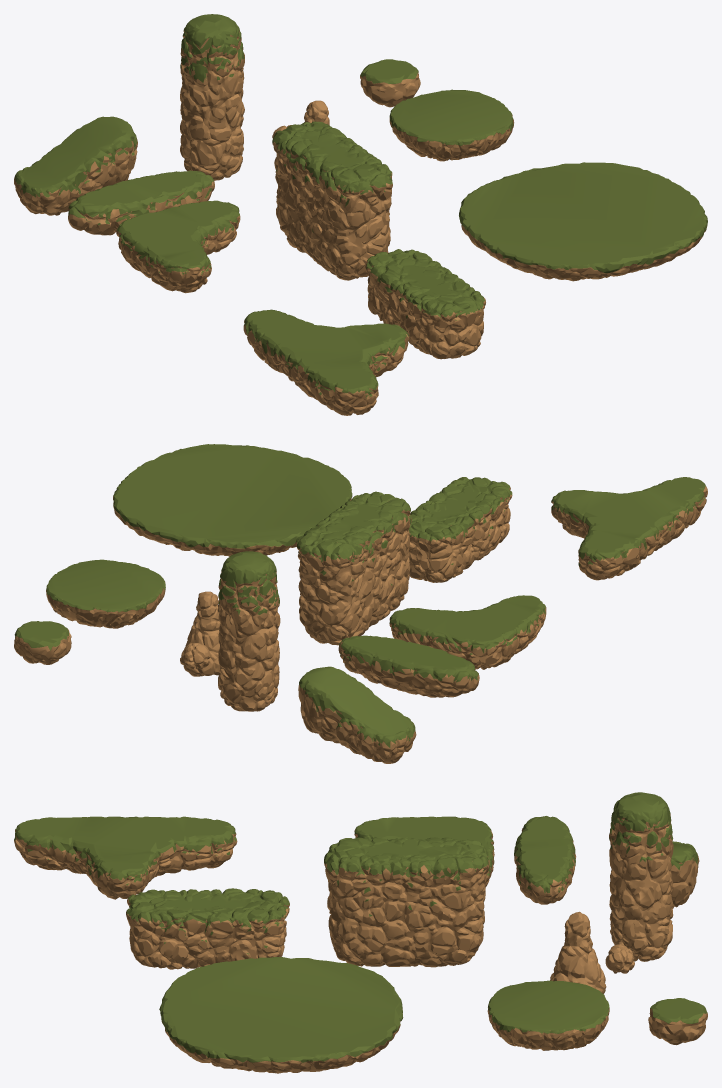
The model's file is stones.fbx.
The picture shows the model from 3 angles, top to bottom: view 1: azimuth 30°, elevation 25°; view 2: azimuth 150°, elevation 25°; view 3: azimuth 270°, elevation 25°; orthographic projection. The views are drawn at different scales.
Parts seen in each view (by area): view 1: BigPlatform, WallStone, TStone, ColumnStone, SmallWallStone, CornerStone, Ramp, MediumPlatform, LongSidedStone, SmallPlatform; view 2: BigPlatform, WallStone, TStone, ColumnStone, SmallWallStone, CornerStone, Ramp, MediumPlatform, LongSidedStone, SmallPlatform, Stalagmite, JustAStone; view 3: BigPlatform, WallStone, TStone, SmallWallStone, ColumnStone, MediumPlatform, LongSidedStone, CornerStone, Stalagmite, SmallPlatform, Ramp, JustAStone.
Part boxes in pixels (x1,y1,x2,y2): BigPlatform: (459, 162, 707, 281); WallStone: (272, 121, 392, 280); TStone: (243, 309, 409, 415); ColumnStone: (180, 14, 244, 180); SmallWallStone: (365, 249, 485, 359); CornerStone: (116, 200, 240, 293); Ramp: (14, 116, 137, 215); MediumPlatform: (389, 89, 514, 161); LongSidedStone: (68, 170, 214, 235); SmallPlatform: (360, 59, 420, 107); BigPlatform: (113, 444, 352, 556); WallStone: (296, 491, 411, 645); TStone: (551, 477, 707, 580); ColumnStone: (217, 551, 280, 711); SmallWallStone: (408, 477, 512, 582); CornerStone: (389, 595, 546, 669); Ramp: (298, 666, 416, 763); MediumPlatform: (46, 559, 165, 628); LongSidedStone: (338, 635, 479, 697); SmallPlatform: (14, 621, 71, 664); Stalagmite: (180, 591, 220, 676); JustAStone: (183, 643, 210, 669); BigPlatform: (159, 957, 403, 1073); WallStone: (324, 837, 489, 967); TStone: (14, 816, 237, 899); SmallWallStone: (126, 888, 289, 969); ColumnStone: (609, 792, 673, 961); MediumPlatform: (487, 980, 609, 1050); LongSidedStone: (514, 816, 576, 904); CornerStone: (354, 816, 494, 887); Stalagmite: (550, 911, 606, 993); SmallPlatform: (648, 998, 707, 1045); Ramp: (671, 841, 699, 908); JustAStone: (605, 944, 634, 973).
Size of the model in its own units: 9752 by 3145 by 11818.
